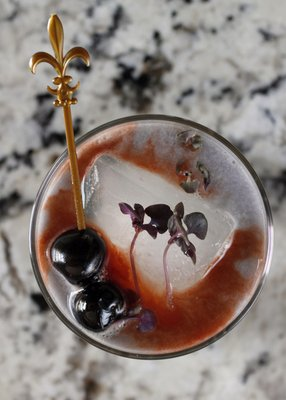sushi: (29, 115, 275, 361)
